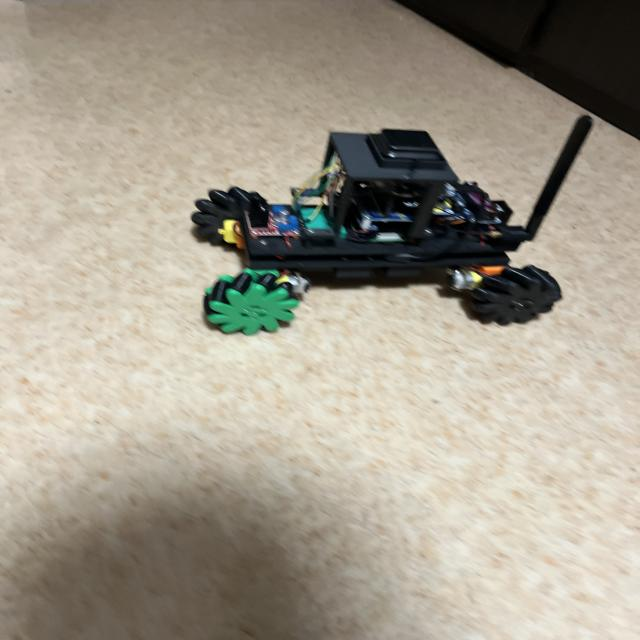robot: (191, 117, 590, 335)
